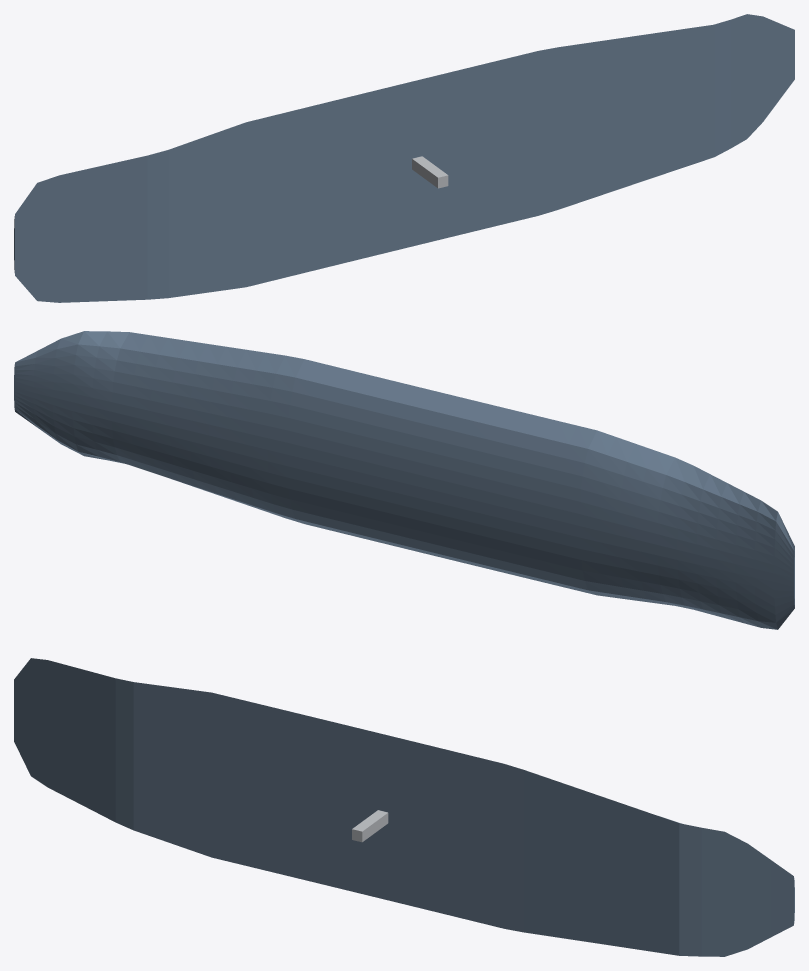
File: loft-partly-submerged-highside.glb
The picture shows the model from 3 angles, top to bottom: view 1: azimuth 30°, elevation 25°; view 2: azimuth 150°, elevation 25°; view 3: azimuth 330°, elevation 25°; orthographic projection.
Visible parts, largest first — view 1: partly-submerged-loft-highside; view 2: partly-submerged-loft-highside; view 3: partly-submerged-loft-highside.
Part boxes in pixels (x1=…): partly-submerged-loft-highside: x1=14, y1=14, x2=794, y2=302; partly-submerged-loft-highside: x1=14, y1=331, x2=794, y2=629; partly-submerged-loft-highside: x1=14, y1=658, x2=794, y2=956.
Bounding box in the file's own units: 1.82 × 0.368 × 0.1764.
